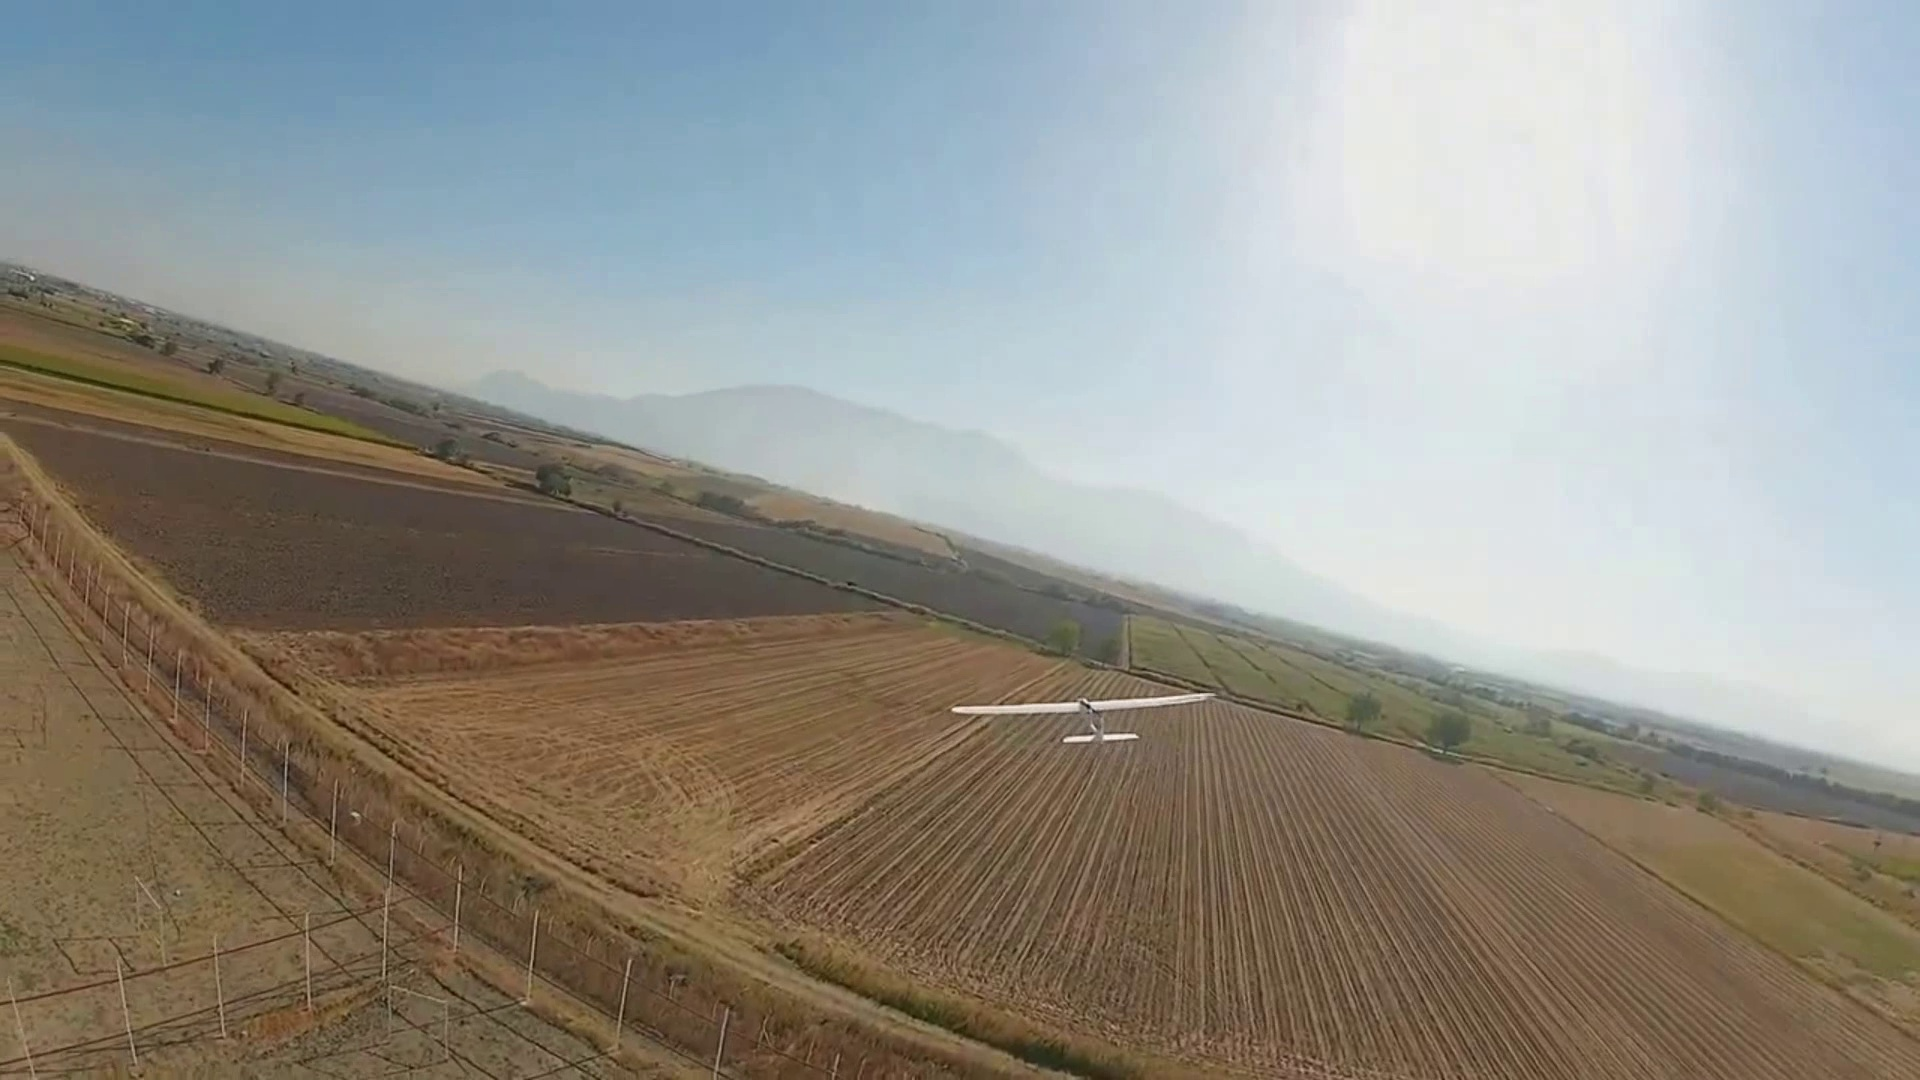airplane: (4, 264, 1909, 808)
